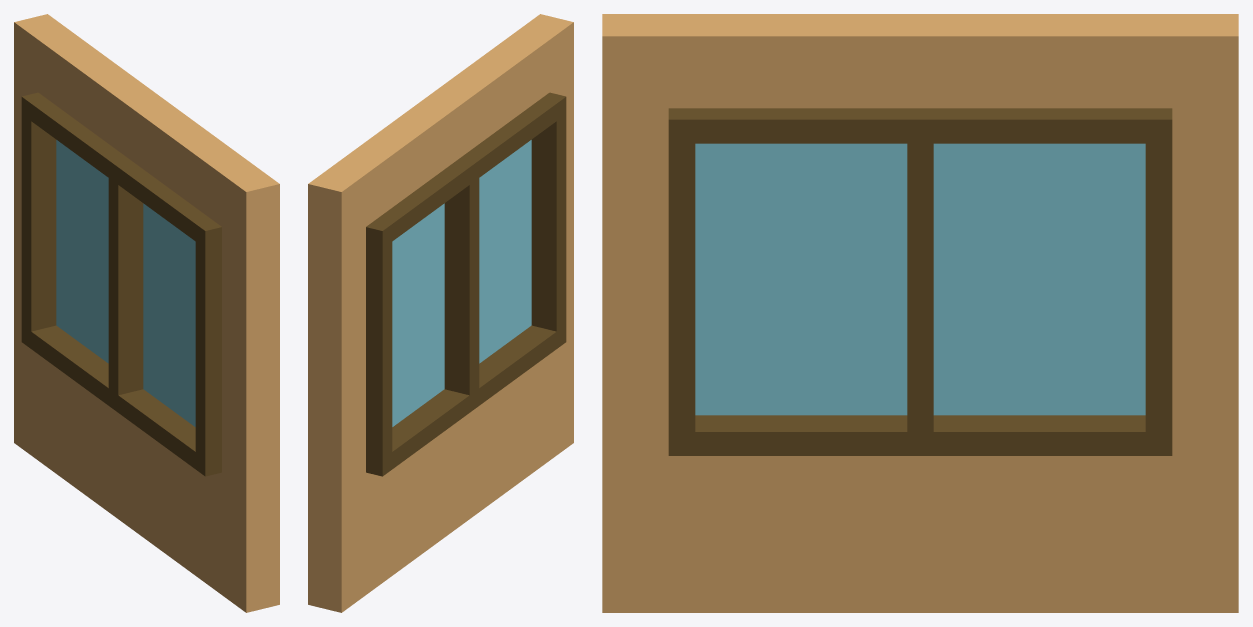
Rendered from office_wall_window_framed.fbx.
3 views of the same model, side by side, from view 1: azimuth 30°, elevation 25°; view 2: azimuth 150°, elevation 25°; view 3: azimuth 270°, elevation 25° (orthographic). The views are drawn at different scales.
Visible parts, largest first — view 1: wall.005, frame.002, glass; view 2: wall.005, frame.002, glass; view 3: wall.005, glass, frame.002.
Boxes of the visible parts, x1,y1,x2,y2 form: wall.005: (14,14,279,612); frame.002: (21,92,221,476); glass: (56,140,195,426); wall.005: (308,14,573,612); frame.002: (366,92,566,476); glass: (392,140,531,426); wall.005: (602,14,1238,612); glass: (695,143,1145,415); frame.002: (668,108,1172,455).
Size of the model in its own units: 50 by 300 by 300.
